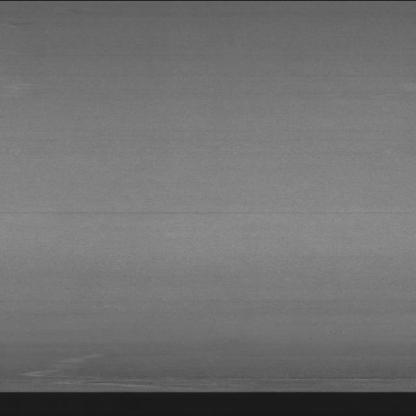silk_spot: (18, 352, 183, 390)
